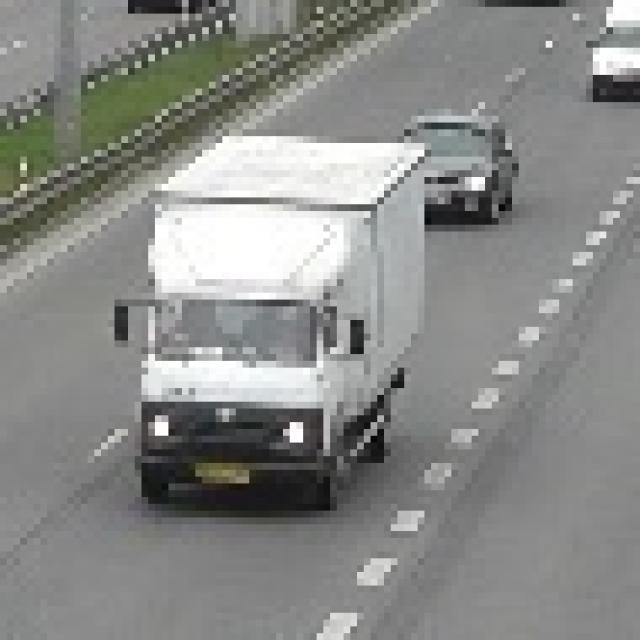truck: (108, 129, 424, 497)
